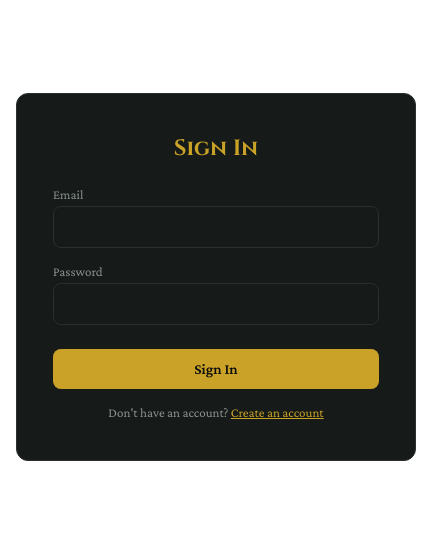
Test: LoginView › can switch to register form
This screenshot has width=433, height=555.
Step 1. Click the button "Create an account" → (277,412), box [231, 405, 324, 420]
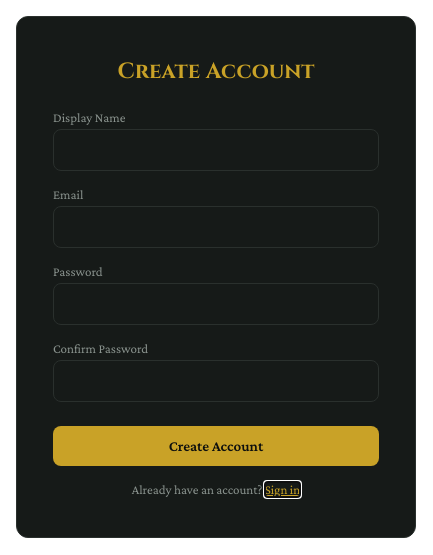
Check: the heading "Create Account" is shown, box [118, 57, 314, 86]
